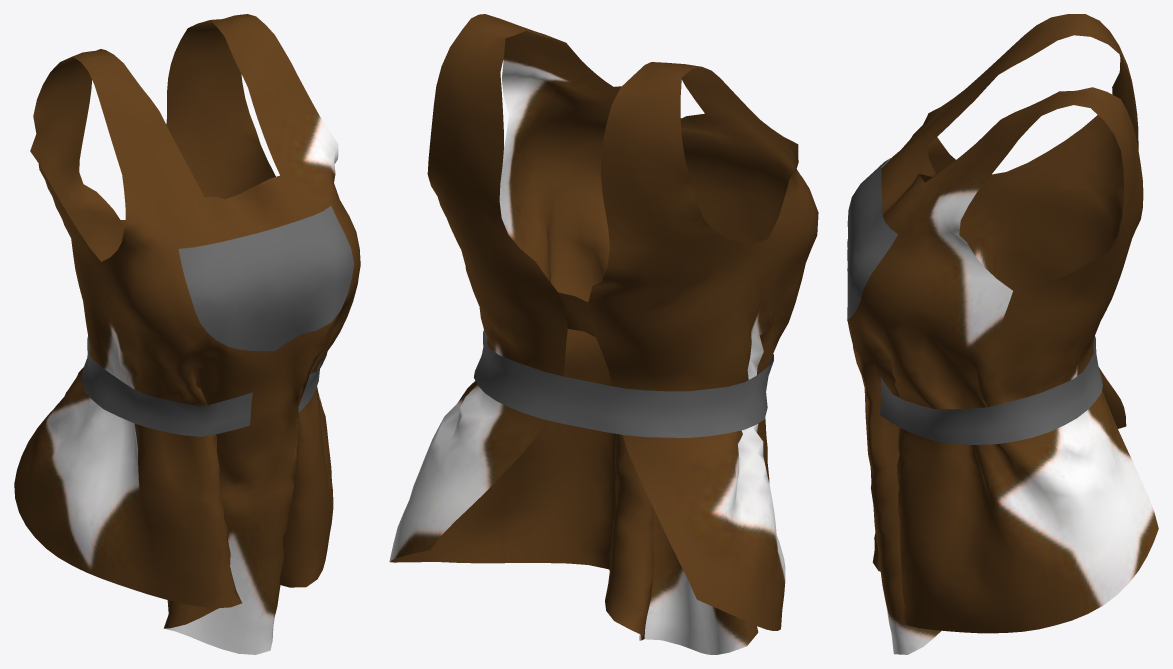
File: Delantal.obj
3 views of the same model, side by side, from view 1: azimuth 30°, elevation 25°; view 2: azimuth 150°, elevation 25°; view 3: azimuth 270°, elevation 25° (orthographic). The views are drawn at different scales.
Parts seen in each view (by area): view 1: Delantal; view 2: Delantal; view 3: Delantal.
Part boxes in pixels (box(x1,y1,x2,y2)): Delantal: box(14, 14, 360, 654); Delantal: box(389, 14, 818, 654); Delantal: box(847, 14, 1158, 654).
Bounding box in the file's own units: 0.8992 × 1.63 × 0.7835.
